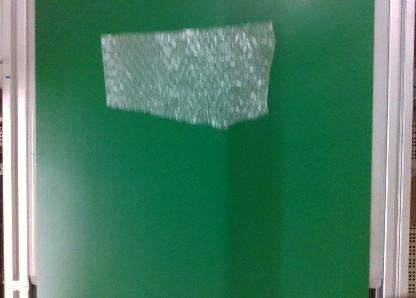Others: (97, 21, 275, 130)
